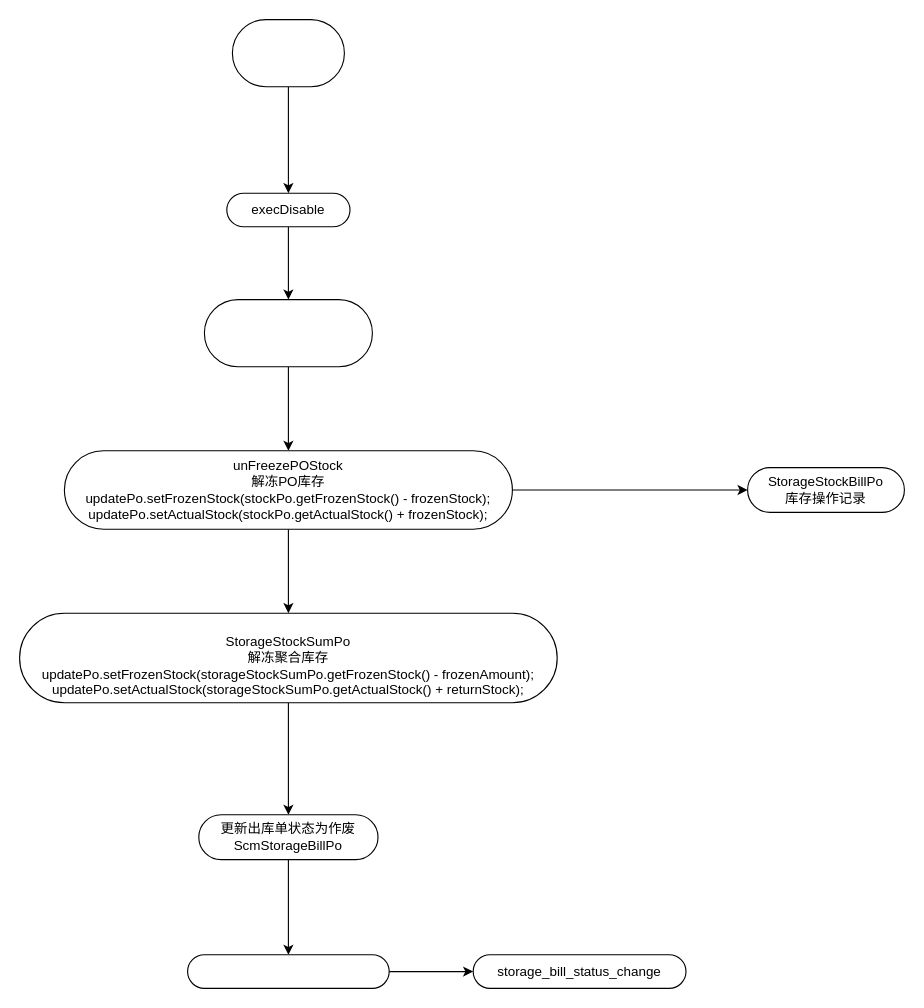
This 924x1008 diagram has some shape labels left out. The shapes that lost their labels are listed below. From the top down, each one's box as (x1, y1, x2, y2) in pixels, then its label:
(231, 18, 344, 87): 作废库存单 invalidBill
(203, 298, 372, 367): operateStock UNFREEZE_STOCK 解冻库存
(186, 954, 389, 988): 发送出入库单状态变更消息
